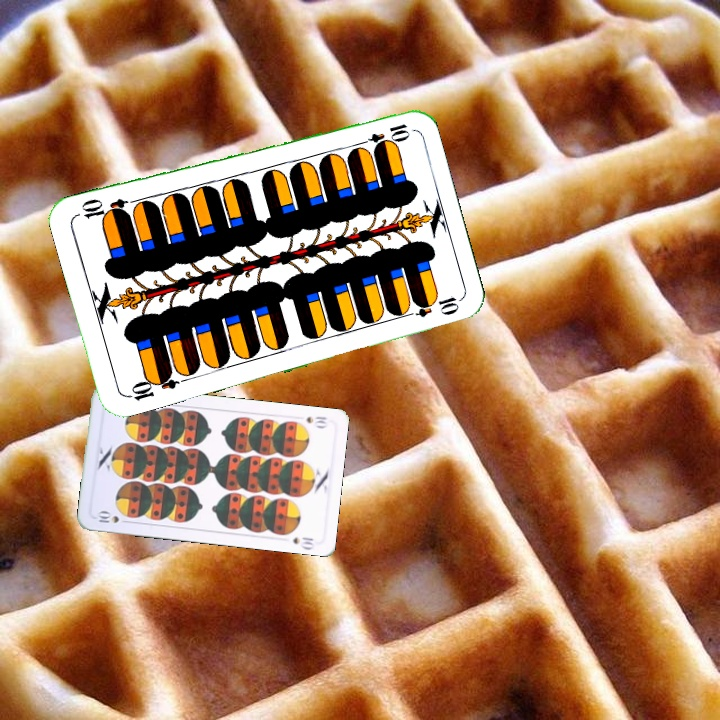E10: (123, 367, 181, 403), (353, 119, 412, 148)
S10: (93, 507, 132, 525), (302, 412, 329, 430)
